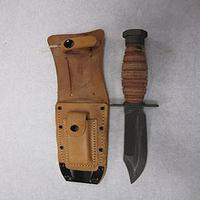knife: (113, 19, 161, 184)
